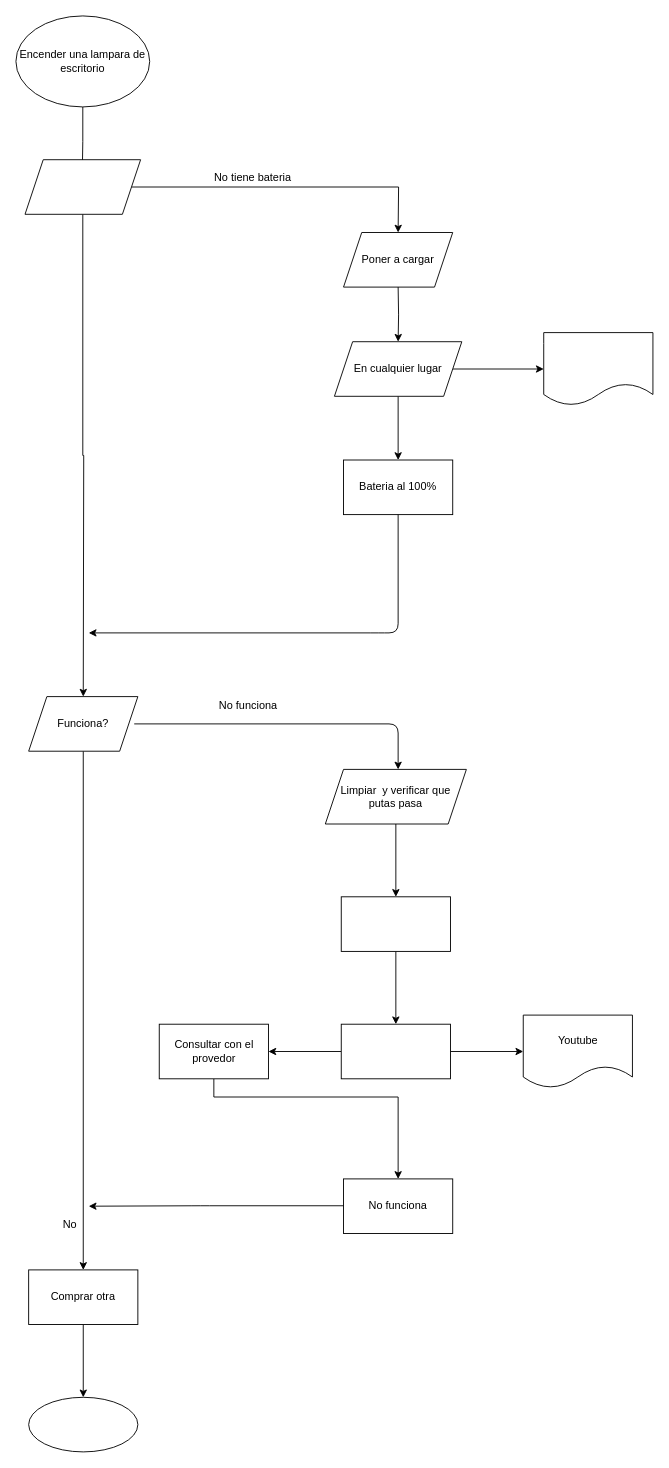
Image size: 669x1468. Some labels were removed from this diagram. Here are the shapes that lost their labels. From the top down, the centre of each, then its label:
point (82, 186): La lampara tiene batería?
point (598, 368): Enchufle de la pared
point (395, 923): No encuentro error
point (395, 1051): Buscar ayuda
point (83, 1424): FIN
